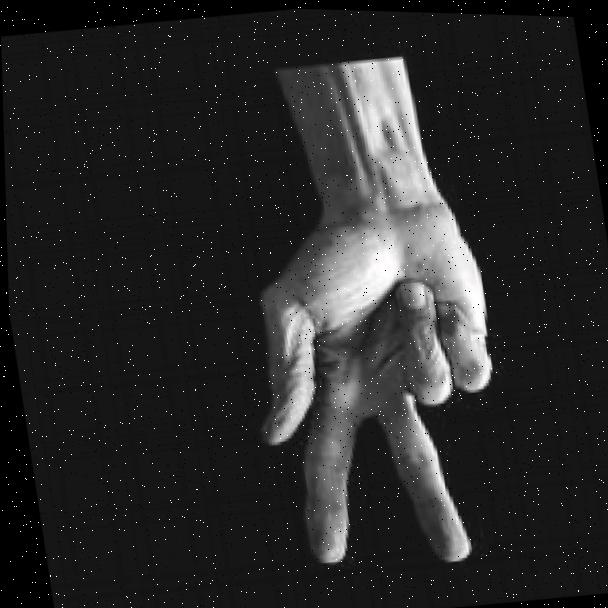three: (209, 138, 537, 594)
